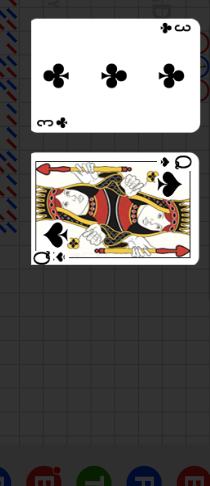3C: (157, 22, 192, 36)
9S: (31, 250, 67, 265)
